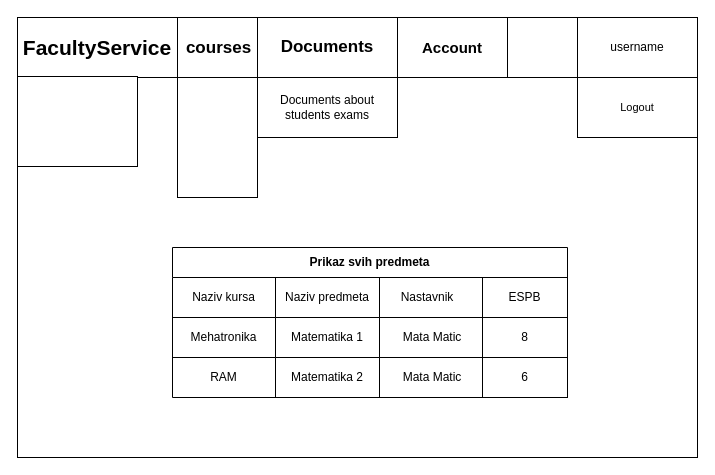
Image size: 715x475. Some labels were removed from this diagram. The centre of each missing label's shape, as x and y in pixels:
"My courses" goes at point (217, 137).
"Name: Mata Surname: Matic" goes at point (77, 121).
